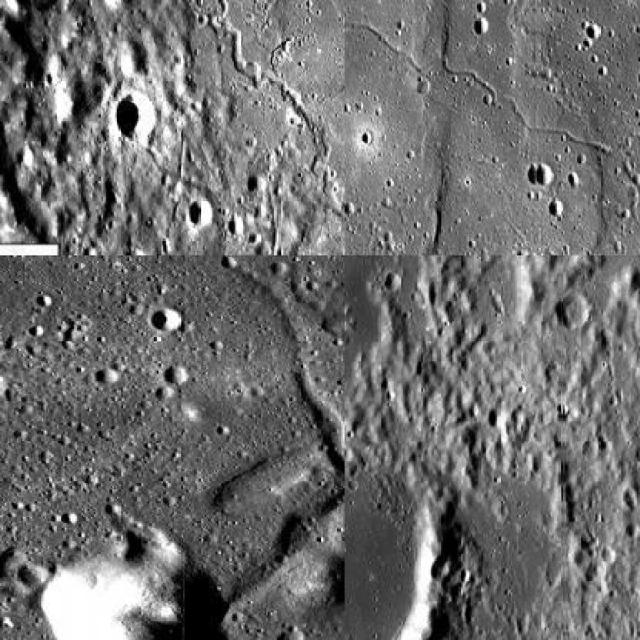rille: (19, 255, 343, 612), (42, 0, 343, 228), (442, 23, 638, 228), (344, 0, 434, 83)
